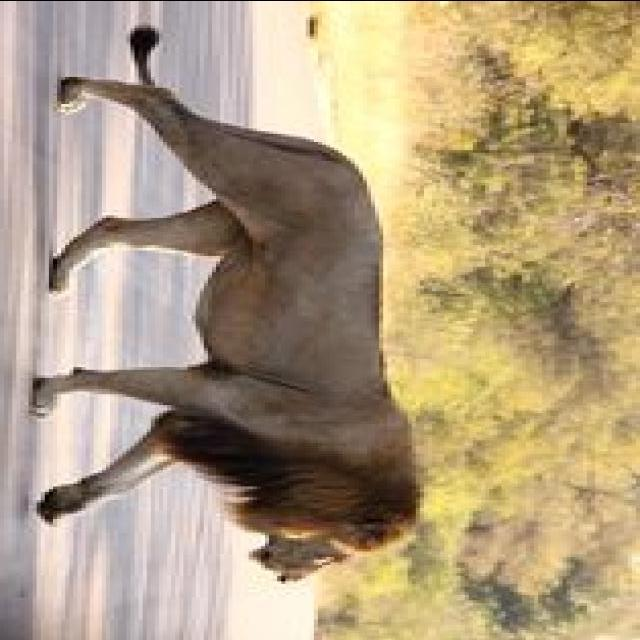lions: (18, 12, 632, 613)
